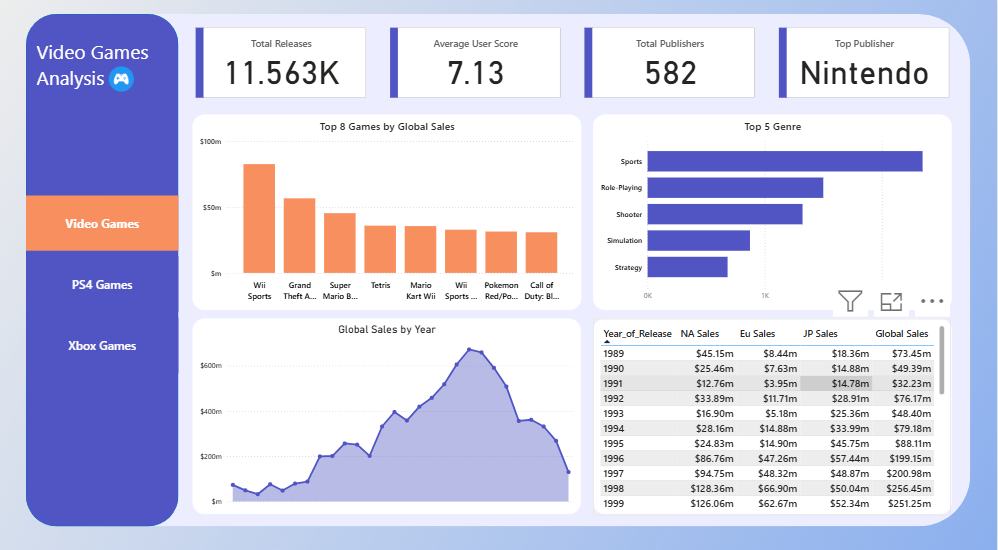

Layout of this report page (visuals, bound fields, positions):
{"tool":"powerbi","page":{"name":"Video Games","canvas":[1664,936],"ordinal":0},"visuals":[{"type":"shape","box":[46,30,1574,854],"z":0},{"type":"shape","box":[46,30,254,854],"z":1000},{"type":"pageNavigator","box":[46,332,254,298],"z":2000},{"type":"areaChart","title":"Global Sales by Year","fields":{"Category":["Video_GamesSales.Year_of_Release"],"Y":["Video_GamesSales.Global Sales"]},"box":[322,538,647,326],"z":3000},{"type":"columnChart","title":"Top 8 Games by Global Sales","fields":{"Category":["Video_GamesSales.Name"],"Y":["Video_GamesSales.Global Sales"]},"box":[322,198,648,326],"z":4000},{"type":"clusteredBarChart","title":"Top 5 Genre ","fields":{"Y":["CountNonNull(Video_GamesSales.Genre)"],"Category":["Video_GamesSales.Genre"]},"box":[990,198,598,326],"z":5000},{"type":"tableEx","fields":{"Values":["Video_GamesSales.Year_of_Release","PS4_GamesSales.Video Games NA Sales","Video_GamesSales.Eu Sales","Video_GamesSales.JP Sales","Video_GamesSales.Global Sales"]},"box":[990,538,598,326],"z":6000},{"type":"textbox","box":[58,64,242,176],"z":7000},{"type":"image","box":[178,110,52,56],"z":8000},{"type":"cardVisual","fields":{"Data":["Count(Video_GamesSales.Name)","Avg(Video_GamesSales.User_Score)","Count(Video_GamesSales.Publisher)","Video_GamesSales.TopPublisher"]},"box":[321.4,47,1266.8,127.8],"z":9000}]}

Visuals, with their boxes in screenshot pixels (x1, y1, x2, y2), scaled from the page's 1664x936 canvas onto the 998x550 screenshot:
shape: Rect(28, 18, 972, 519)
shape: Rect(28, 18, 180, 519)
pageNavigator: Rect(28, 195, 180, 370)
"Global Sales by Year" areaChart: Rect(193, 316, 581, 508)
"Top 8 Games by Global Sales" columnChart: Rect(193, 116, 582, 308)
"Top 5 Genre " clusteredBarChart: Rect(594, 116, 952, 308)
tableEx - Video_GamesSales.Year_of_Release x PS4_GamesSales.Video Games NA Sales: Rect(594, 316, 952, 508)
textbox: Rect(35, 38, 180, 141)
image: Rect(107, 65, 138, 98)
cardVisual - Count(Video_GamesSales.Name) x Avg(Video_GamesSales.User_Score): Rect(193, 28, 953, 103)
